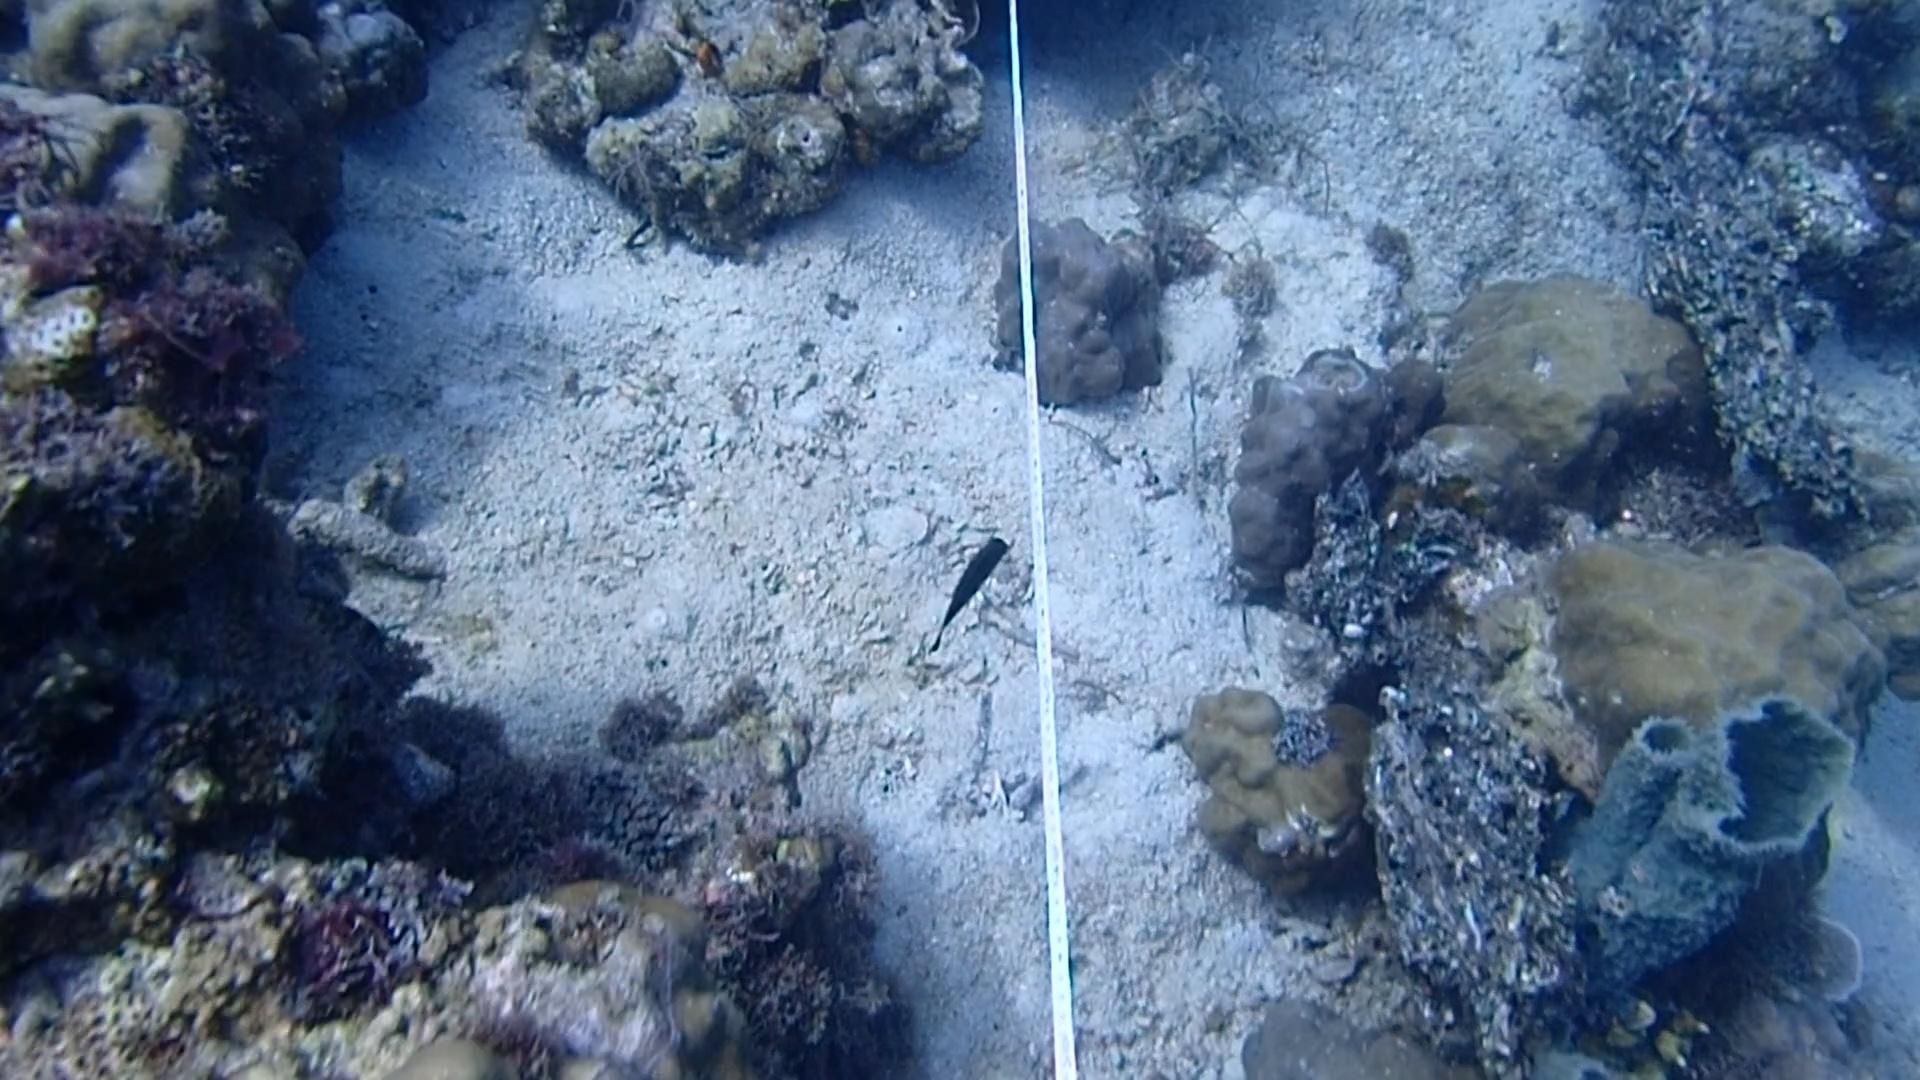Dark Fish: (910, 524, 1022, 654)
